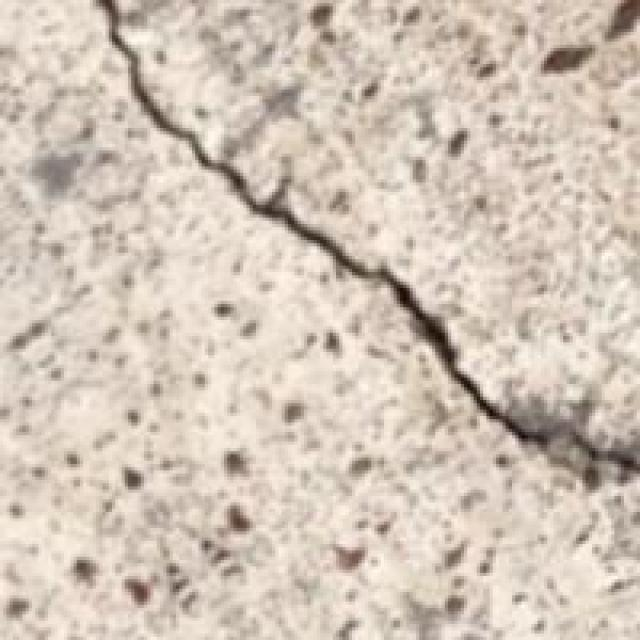Crack: (80, 0, 614, 496)
